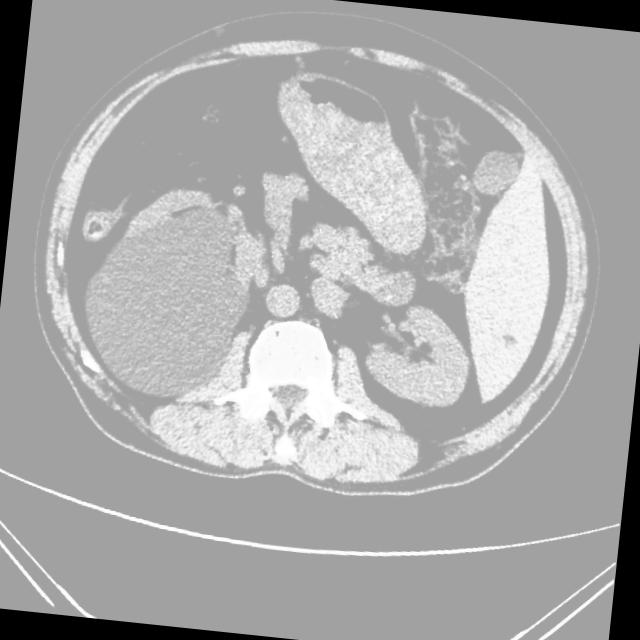cysts: (19, 6, 618, 517)
